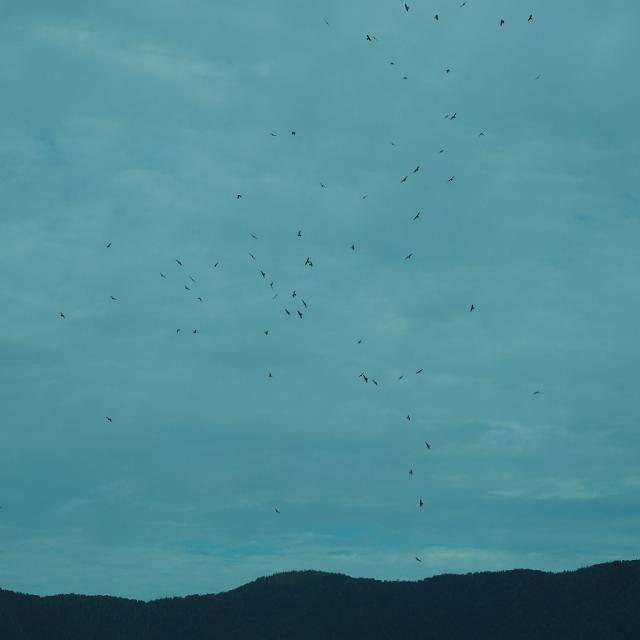bird: (412, 165, 422, 178), (412, 213, 422, 224), (447, 113, 457, 123), (401, 173, 410, 184), (59, 308, 66, 321), (499, 18, 508, 28), (414, 368, 423, 378), (459, 0, 468, 10), (417, 500, 425, 510), (403, 5, 411, 15), (272, 505, 280, 515), (404, 252, 412, 262), (446, 176, 456, 184), (469, 303, 476, 314), (423, 442, 431, 451), (260, 270, 268, 279), (108, 294, 117, 302), (526, 15, 534, 23), (434, 15, 442, 23), (319, 181, 327, 189), (444, 68, 452, 76), (298, 309, 305, 318), (301, 299, 308, 308), (531, 389, 540, 396), (532, 73, 541, 80), (304, 256, 310, 266), (174, 258, 182, 265), (188, 275, 196, 282), (248, 252, 255, 260), (414, 557, 422, 564), (213, 261, 219, 270), (268, 371, 274, 380), (438, 148, 445, 155), (106, 242, 112, 250), (159, 271, 165, 279), (184, 284, 192, 290), (372, 378, 378, 386), (366, 34, 372, 42), (250, 234, 257, 240), (237, 193, 243, 200), (268, 282, 274, 289), (272, 293, 278, 300), (388, 142, 395, 148), (402, 75, 409, 81), (324, 19, 330, 26), (297, 230, 302, 238), (292, 290, 297, 298), (406, 414, 411, 422), (359, 371, 365, 377), (106, 416, 112, 422), (409, 467, 413, 476), (350, 243, 355, 250), (361, 194, 368, 199), (291, 130, 296, 137), (175, 328, 180, 334), (285, 309, 290, 315), (357, 340, 362, 346), (398, 374, 403, 380), (363, 376, 368, 382), (479, 133, 484, 139), (269, 133, 276, 137), (373, 35, 378, 40), (309, 261, 313, 267), (264, 330, 268, 336), (390, 63, 396, 67), (192, 329, 196, 334), (197, 298, 201, 302)
